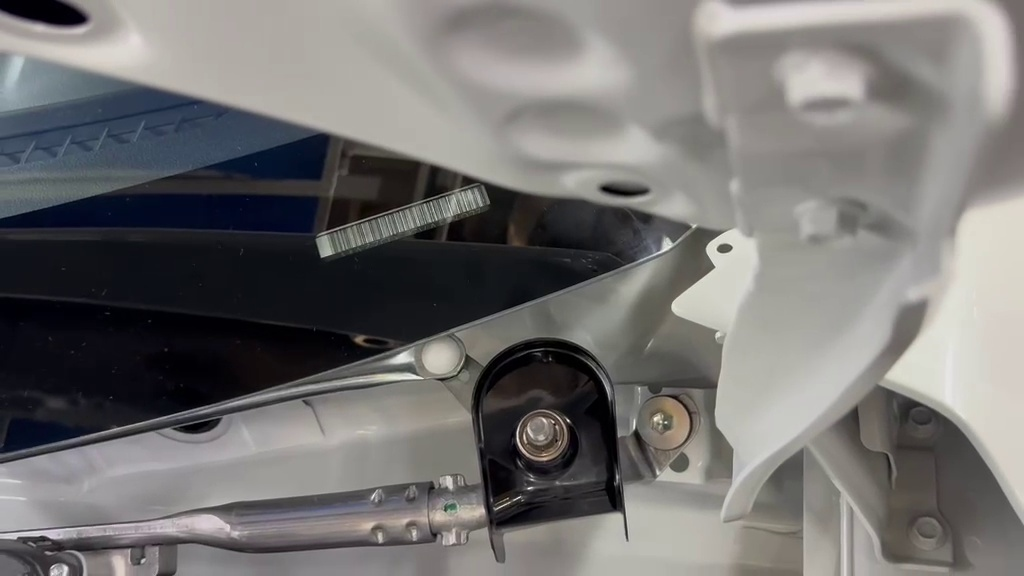barcode: (444, 330, 658, 571)
hinge: (300, 166, 506, 282)
